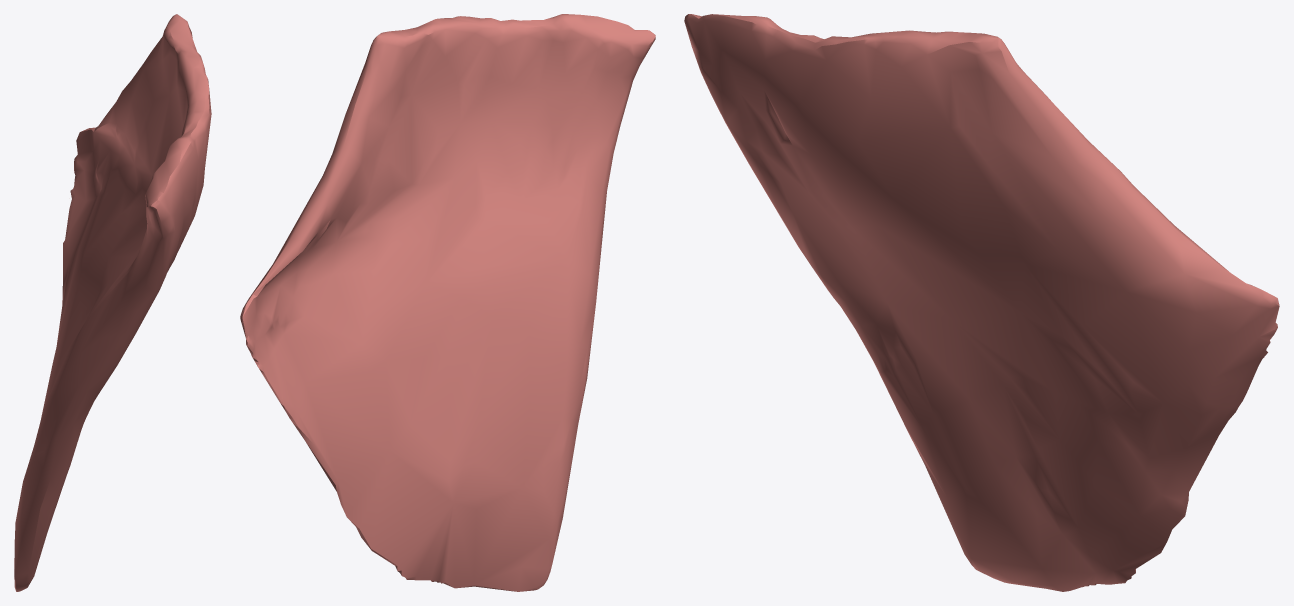
File: fma13353_fj1577.glb
The picture shows the model from 3 angles, left to right: view 1: azimuth 30°, elevation 25°; view 2: azimuth 150°, elevation 25°; view 3: azimuth 270°, elevation 25°; orthographic projection. The views are drawn at different scales.
Parts seen in each view (by area): view 1: FMA13353_FJ1577; view 2: FMA13353_FJ1577; view 3: FMA13353_FJ1577.
Part boxes in pixels (<box>): FMA13353_FJ1577: <box>14,14,211,591</box>; FMA13353_FJ1577: <box>240,14,655,591</box>; FMA13353_FJ1577: <box>684,14,1279,591</box>.
Bounding box in the file's own units: 0.0123 × 0.0308 × 0.0263.
